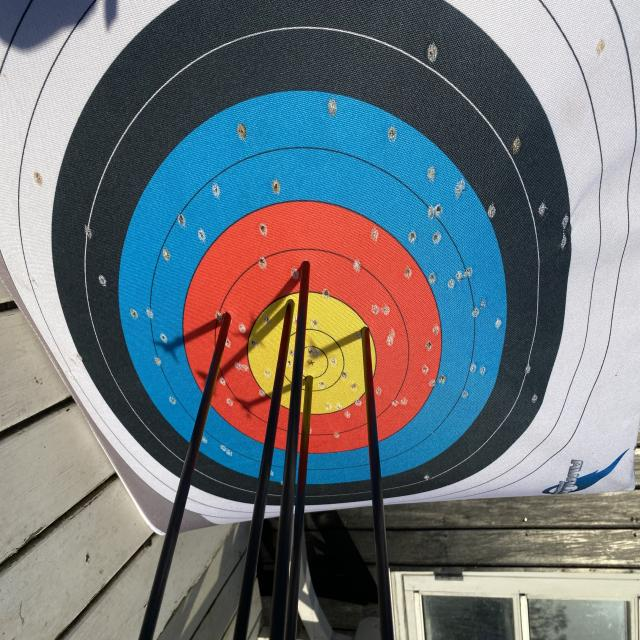Arrow_Red: (284, 242, 327, 286), (208, 290, 241, 341)
Arrow_Yellow: (348, 312, 382, 354), (294, 364, 326, 405), (279, 289, 299, 325)
